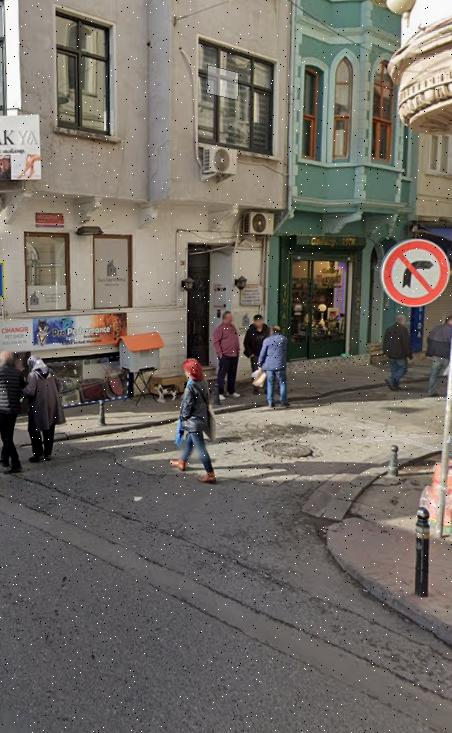leftturnsareforbidden: (381, 238, 447, 300)
